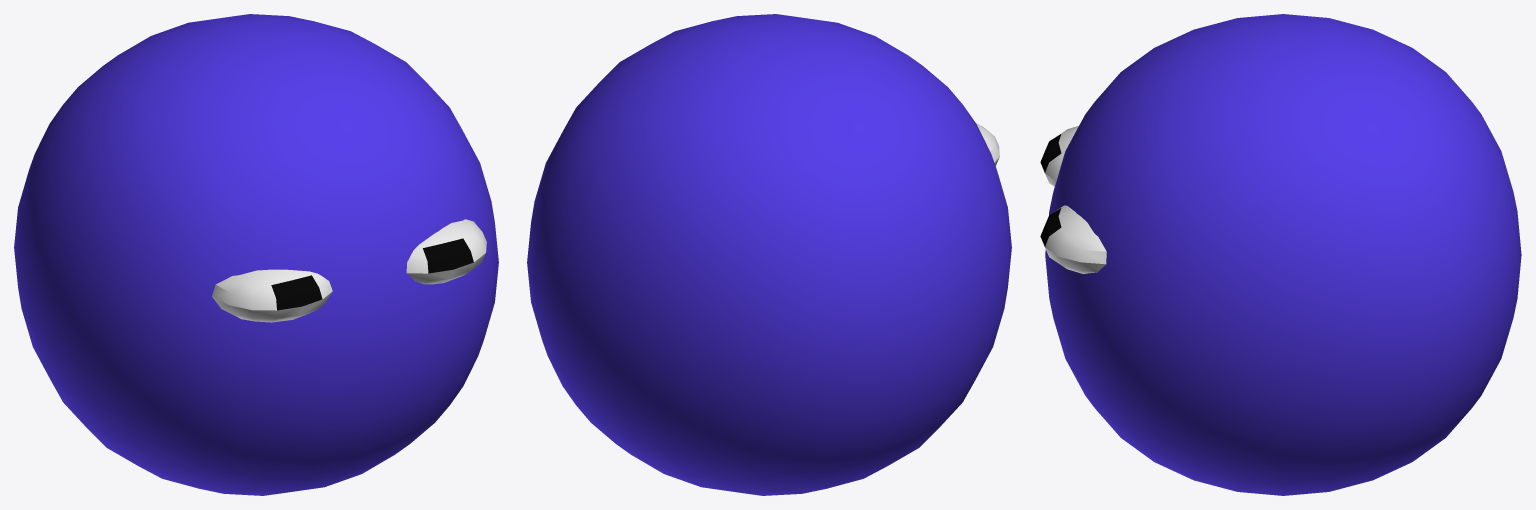
File: puffball.glb
3 renders of one model, left to right at view 1: azimuth 30°, elevation 25°; view 2: azimuth 150°, elevation 25°; view 3: azimuth 270°, elevation 25°, orthographic.
Parts seen in each view (by area): view 1: Cube.001, Cube.002; view 2: Cube.001; view 3: Cube.001, Cube.002.
Boxes of the visible parts, bbox=[...] form: Cube.001: bbox=[14, 14, 498, 495]; Cube.002: bbox=[212, 219, 486, 322]; Cube.001: bbox=[527, 14, 1011, 495]; Cube.001: bbox=[1045, 14, 1521, 495]; Cube.002: bbox=[1040, 126, 1106, 273].
Bounding box in the file's own units: 1.68 × 1.68 × 1.7.
